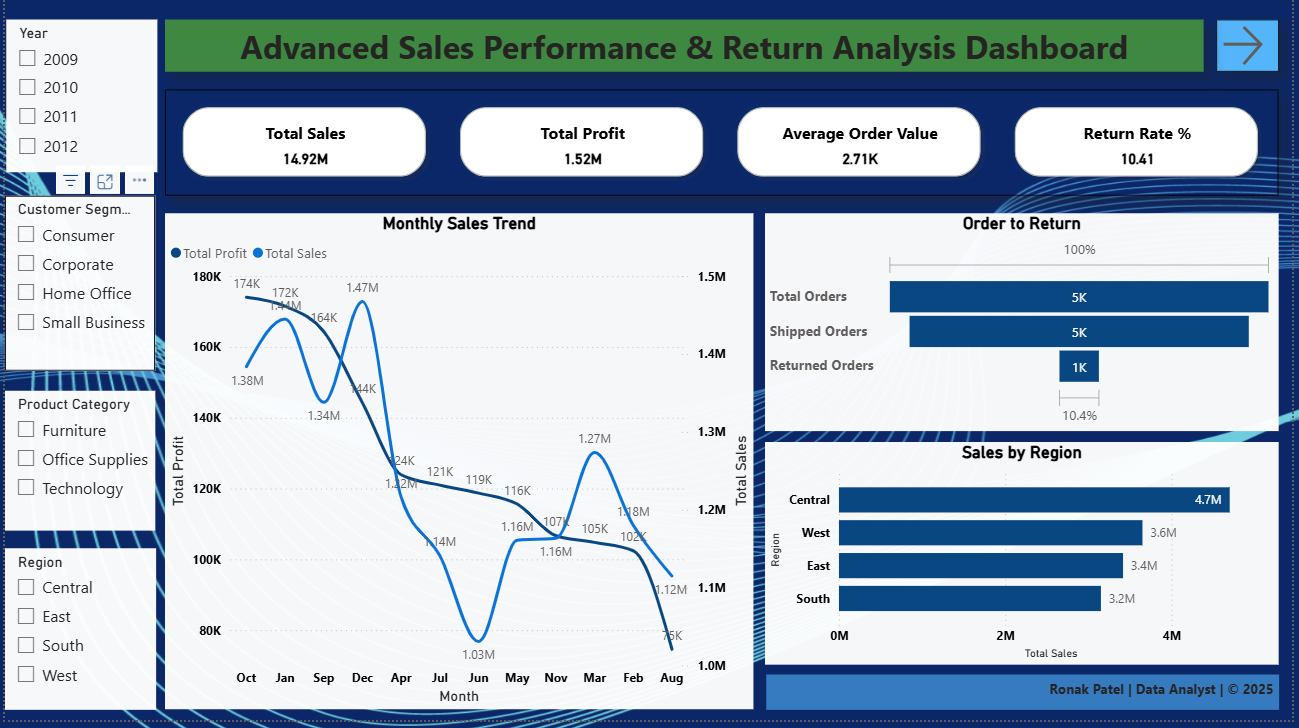

This screenshot's page, from the dashboard's own definition file:
{"tool":"powerbi","page":{"name":"Executive Summary Setup","canvas":[1280,720],"ordinal":0},"visuals":[{"type":"cardVisual","fields":{"Data":["Fact_Orders.Total Sales","Fact_Orders.Total Profit","Fact_Orders.AOV","Dim_Returns.Return Rate %"]},"box":[159.2,92.1,1108.4,105.7],"z":0},{"type":"lineChart","title":"Monthly Sales Trend","fields":{"Category":["Dim_Date.Month"],"Y2":["Fact_Orders.Total Sales"],"Y":["Fact_Orders.Total Profit"]},"box":[159.2,215.2,585.9,493.9],"z":1000},{"type":"clusteredBarChart","title":"Sales by Region","fields":{"Category":["Fact_Orders.Region"],"Y":["Fact_Orders.Total Sales"]},"box":[756.3,442.8,511.3,221.4],"z":2000},{"type":"funnel","title":"Order to Return","fields":{"Y":["Fact_Orders.Total Orders","Fact_Orders.Shipped Orders","Dim_Returns.Returned Orders"]},"box":[756.3,215.2,511.3,216.4],"z":3000},{"type":"slicer","fields":{"Values":["Fact_Orders.Customer Segment"]},"box":[0,197.8,149.3,174.2],"z":4000},{"type":"slicer","fields":{"Values":["Dim_Users.Region"]},"box":[0,548.6,150.5,160.5],"z":5000},{"type":"actionButton","box":[1205.4,22.4,62.2,52.2],"z":6000},{"type":"textbox","box":[159.2,22.4,1033.7,52.2],"z":7000},{"type":"slicer","fields":{"Values":["Dim_Date.Year"]},"box":[1.2,22.4,150.5,151.8],"z":8000},{"type":"slicer","fields":{"Values":["Fact_Orders.Product Category"]},"box":[0,391.8,149.3,139.3],"z":9000},{"type":"textbox","box":[757.6,674.2,510,34.8],"z":10000}]}

Visuals, with their boxes in screenshot pixels (x1, y1, x2, y2), scaled from the page's 1280x720 canvas onto the 1299x728 screenshot:
cardVisual - Fact_Orders.Total Sales x Fact_Orders.Total Profit: bbox=[162, 93, 1286, 200]
"Monthly Sales Trend" lineChart: bbox=[162, 218, 756, 717]
"Sales by Region" clusteredBarChart: bbox=[768, 448, 1286, 672]
"Order to Return" funnel: bbox=[768, 218, 1286, 436]
slicer - Fact_Orders.Customer Segment: bbox=[0, 200, 152, 376]
slicer - Dim_Users.Region: bbox=[0, 555, 153, 717]
actionButton: bbox=[1223, 23, 1286, 75]
textbox: bbox=[162, 23, 1211, 75]
slicer - Dim_Date.Year: bbox=[1, 23, 154, 176]
slicer - Fact_Orders.Product Category: bbox=[0, 396, 152, 537]
textbox: bbox=[769, 682, 1286, 717]
